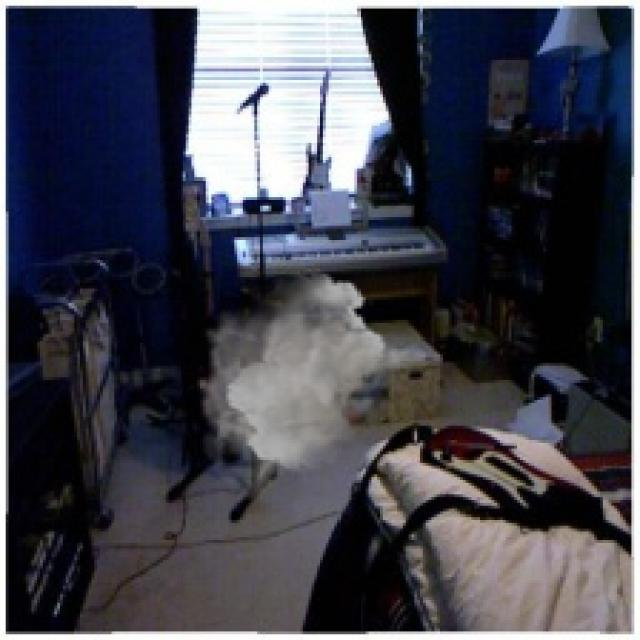Smoke: (195, 268, 432, 503)
